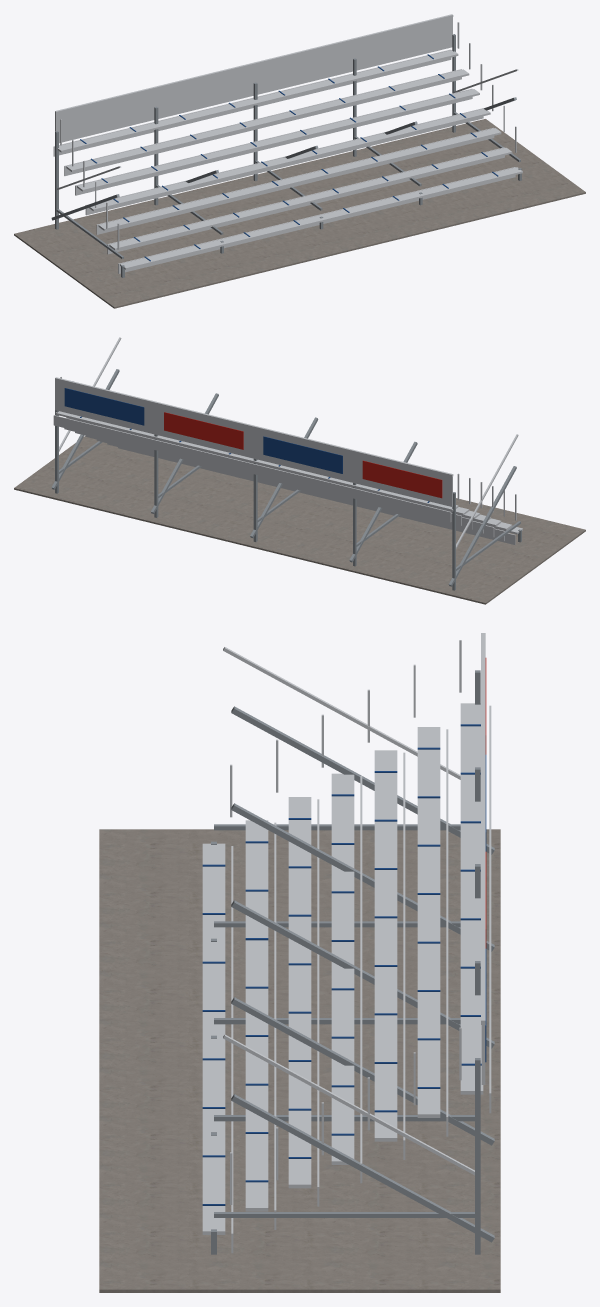
Rendered from OT_Bleachers.glb.
3 views of the same model, one above another, from view 1: azimuth 30°, elevation 25°; view 2: azimuth 150°, elevation 25°; view 3: azimuth 270°, elevation 25° (orthographic). The views are drawn at different scales.
Visible parts, largest first — view 1: OT_Bleachers_Aluminum__c9ccd1, OT_Bleachers_Concrete, OT_Bleachers_GalvFrame__8e959c, OT_Bleachers_SeatNum__1f4e8c; view 2: OT_Bleachers_Concrete, OT_Bleachers_Aluminum__c9ccd1, OT_Bleachers_GalvFrame__8e959c, OT_Bleachers_BannerBlue__1f4e8c, OT_Bleachers_BannerRed__c4261d; view 3: OT_Bleachers_Concrete, OT_Bleachers_Aluminum__c9ccd1, OT_Bleachers_GalvFrame__8e959c, OT_Bleachers_SeatNum__1f4e8c.
Boxes of the visible parts, bbox=[...] form: OT_Bleachers_Aluminum__c9ccd1: bbox=[53, 14, 522, 273]; OT_Bleachers_Concrete: bbox=[14, 119, 585, 308]; OT_Bleachers_GalvFrame__8e959c: bbox=[51, 34, 521, 277]; OT_Bleachers_SeatNum__1f4e8c: bbox=[80, 54, 498, 261]; OT_Bleachers_Concrete: bbox=[14, 436, 585, 604]; OT_Bleachers_Aluminum__c9ccd1: bbox=[53, 337, 522, 548]; OT_Bleachers_GalvFrame__8e959c: bbox=[51, 369, 521, 590]; OT_Bleachers_BannerBlue__1f4e8c: bbox=[64, 388, 342, 473]; OT_Bleachers_BannerRed__c4261d: bbox=[164, 412, 442, 498]; OT_Bleachers_Concrete: bbox=[99, 829, 500, 1292]; OT_Bleachers_Aluminum__c9ccd1: bbox=[202, 633, 491, 1253]; OT_Bleachers_GalvFrame__8e959c: bbox=[211, 670, 494, 1254]; OT_Bleachers_SeatNum__1f4e8c: bbox=[202, 724, 481, 1205].
Bounding box in the file's own units: 19 × 4.54 × 7.
6 materials, 1 textured.
